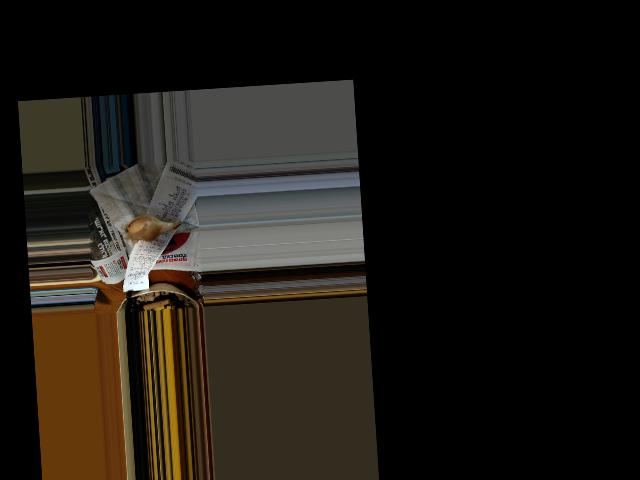onion: (125, 213, 165, 241)
